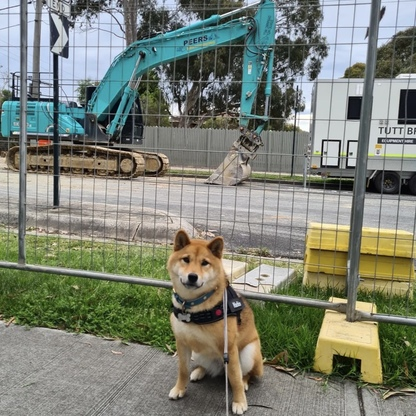shiba: (156, 224, 273, 413)
